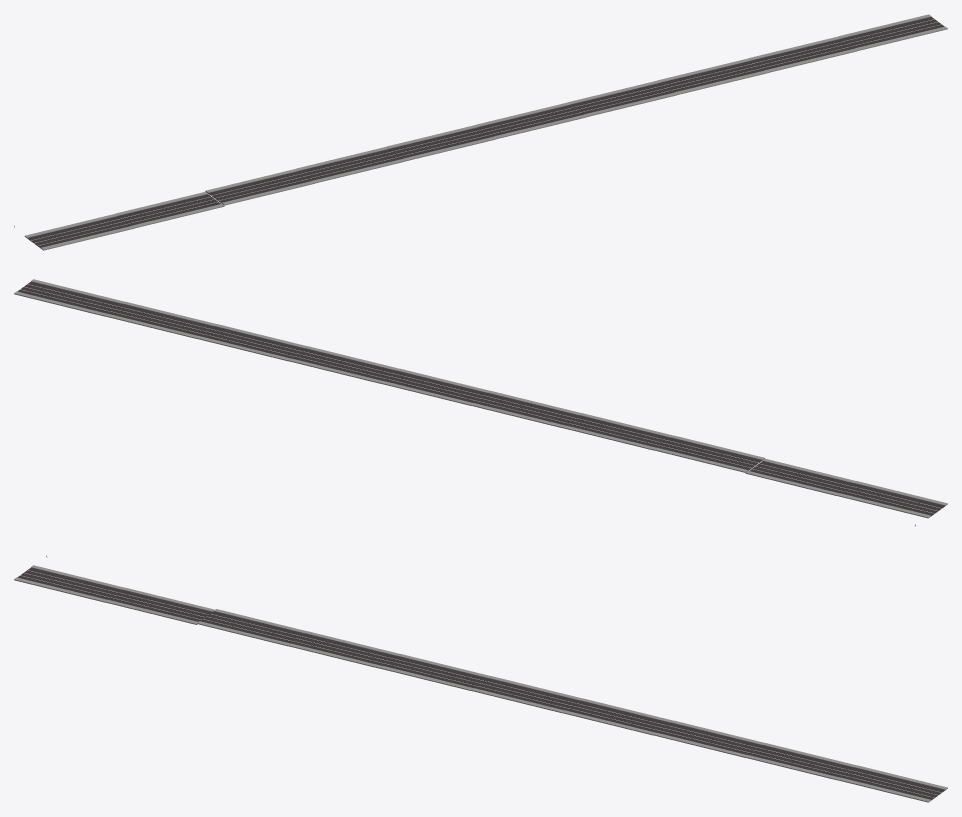
3 renders of one model, top to bottom at view 1: azimuth 30°, elevation 25°; view 2: azimuth 150°, elevation 25°; view 3: azimuth 330°, elevation 25°, orthographic.
Parts seen in each view (by area): view 1: Geom3D (×20); view 2: Geom3D (×20); view 3: Geom3D (×20).
Part boxes in pixels (left/top/right/bottom): Geom3D (×20): left=24, top=14, right=947, bottom=250; Geom3D (×20): left=14, top=279, right=947, bottom=518; Geom3D (×20): left=14, top=565, right=947, bottom=802.
Bounding box in the file's own units: 613 × 1.59 × 36.51.
Materials: 24 (2 with a texture image).
